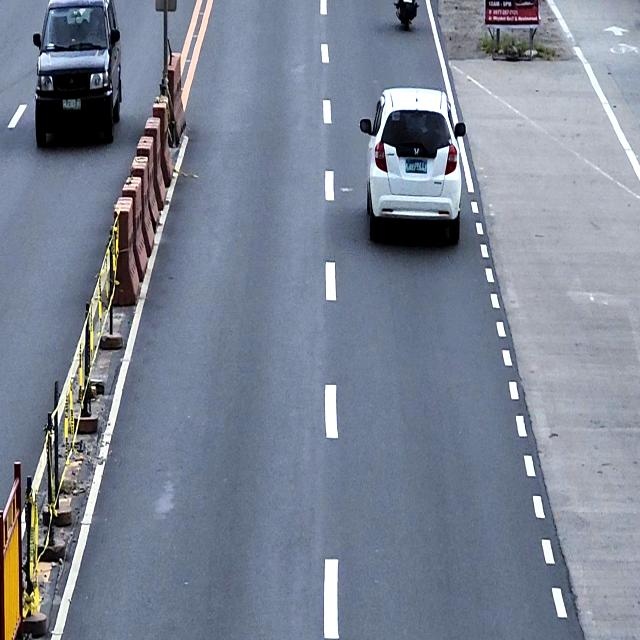Car: (359, 86, 466, 243), (32, 0, 122, 147)
License-Plate: (404, 156, 428, 174), (60, 96, 82, 112)
Motorcycle: (393, 0, 419, 30)
